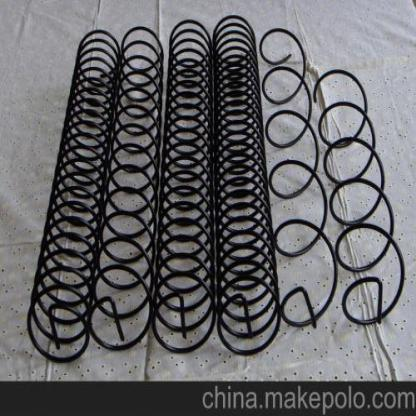FOD: (21, 26, 121, 366), (86, 25, 164, 353), (312, 69, 408, 330), (258, 24, 339, 330), (212, 14, 282, 358), (149, 18, 216, 357)
